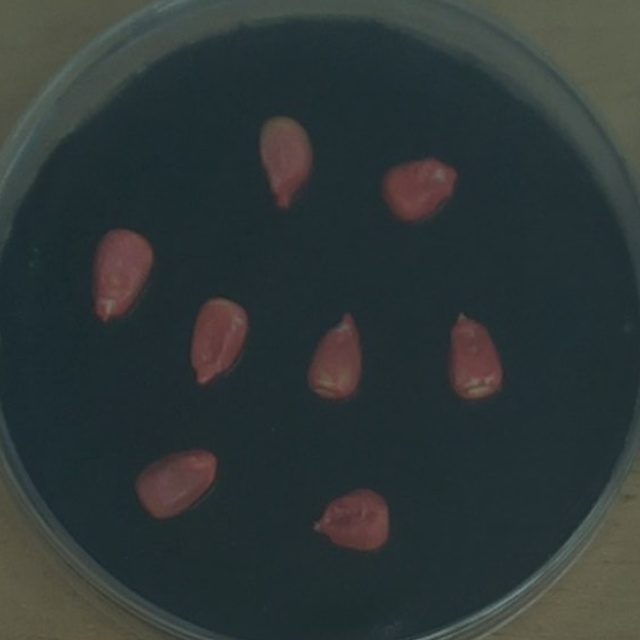Zea mays: (82, 219, 163, 329), (125, 440, 228, 526), (179, 286, 259, 392), (247, 105, 323, 216), (297, 302, 374, 410), (371, 148, 466, 229), (440, 300, 510, 408), (302, 478, 395, 557)
